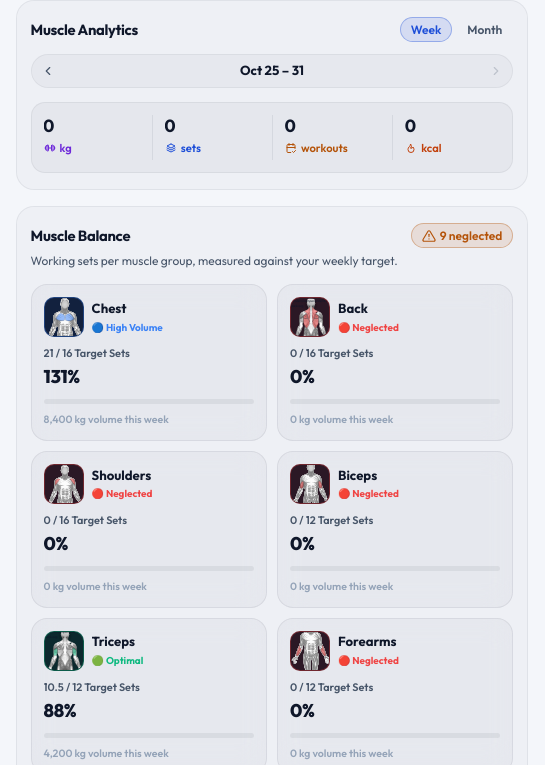
Scenario: WeeklyMuscleAnalytics — Week/Month toggle › opens the neglected list from the "N neglected" link and comes back
The width and height of the screenshot is (545, 765).
Click the button "9 neglected" at (462,236), box x1=411 y1=223 x2=513 y2=248
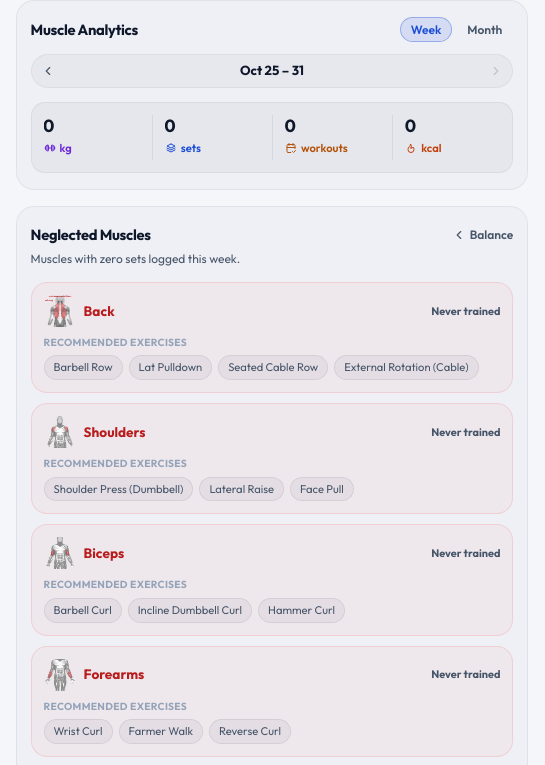
expect the heading "Neglected Muscles" is shown: met, box x1=31 y1=226 x2=151 y2=244
Click the button "Balance" at (483,235), box x1=452 y1=223 x2=513 y2=246
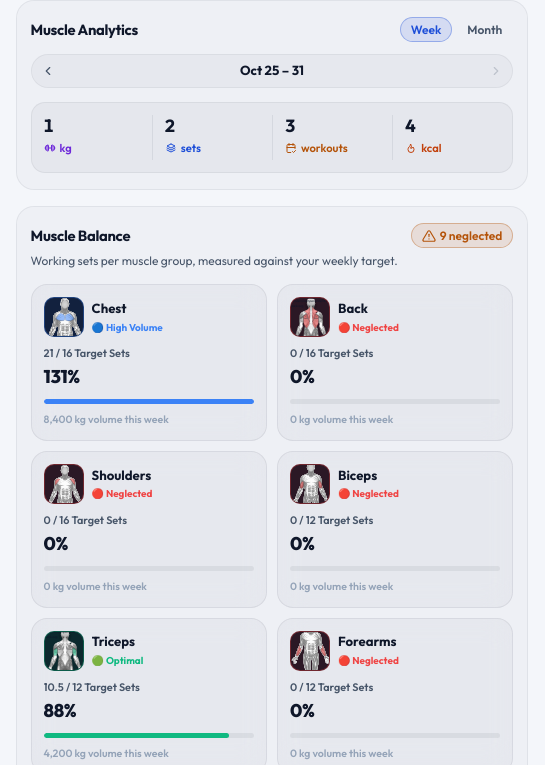
expect the heading "Muscle Balance" is shown: met, box x1=31 y1=227 x2=130 y2=244
